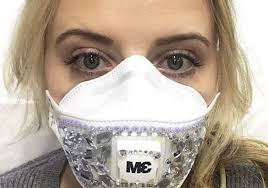mask: (41, 1, 221, 188)
